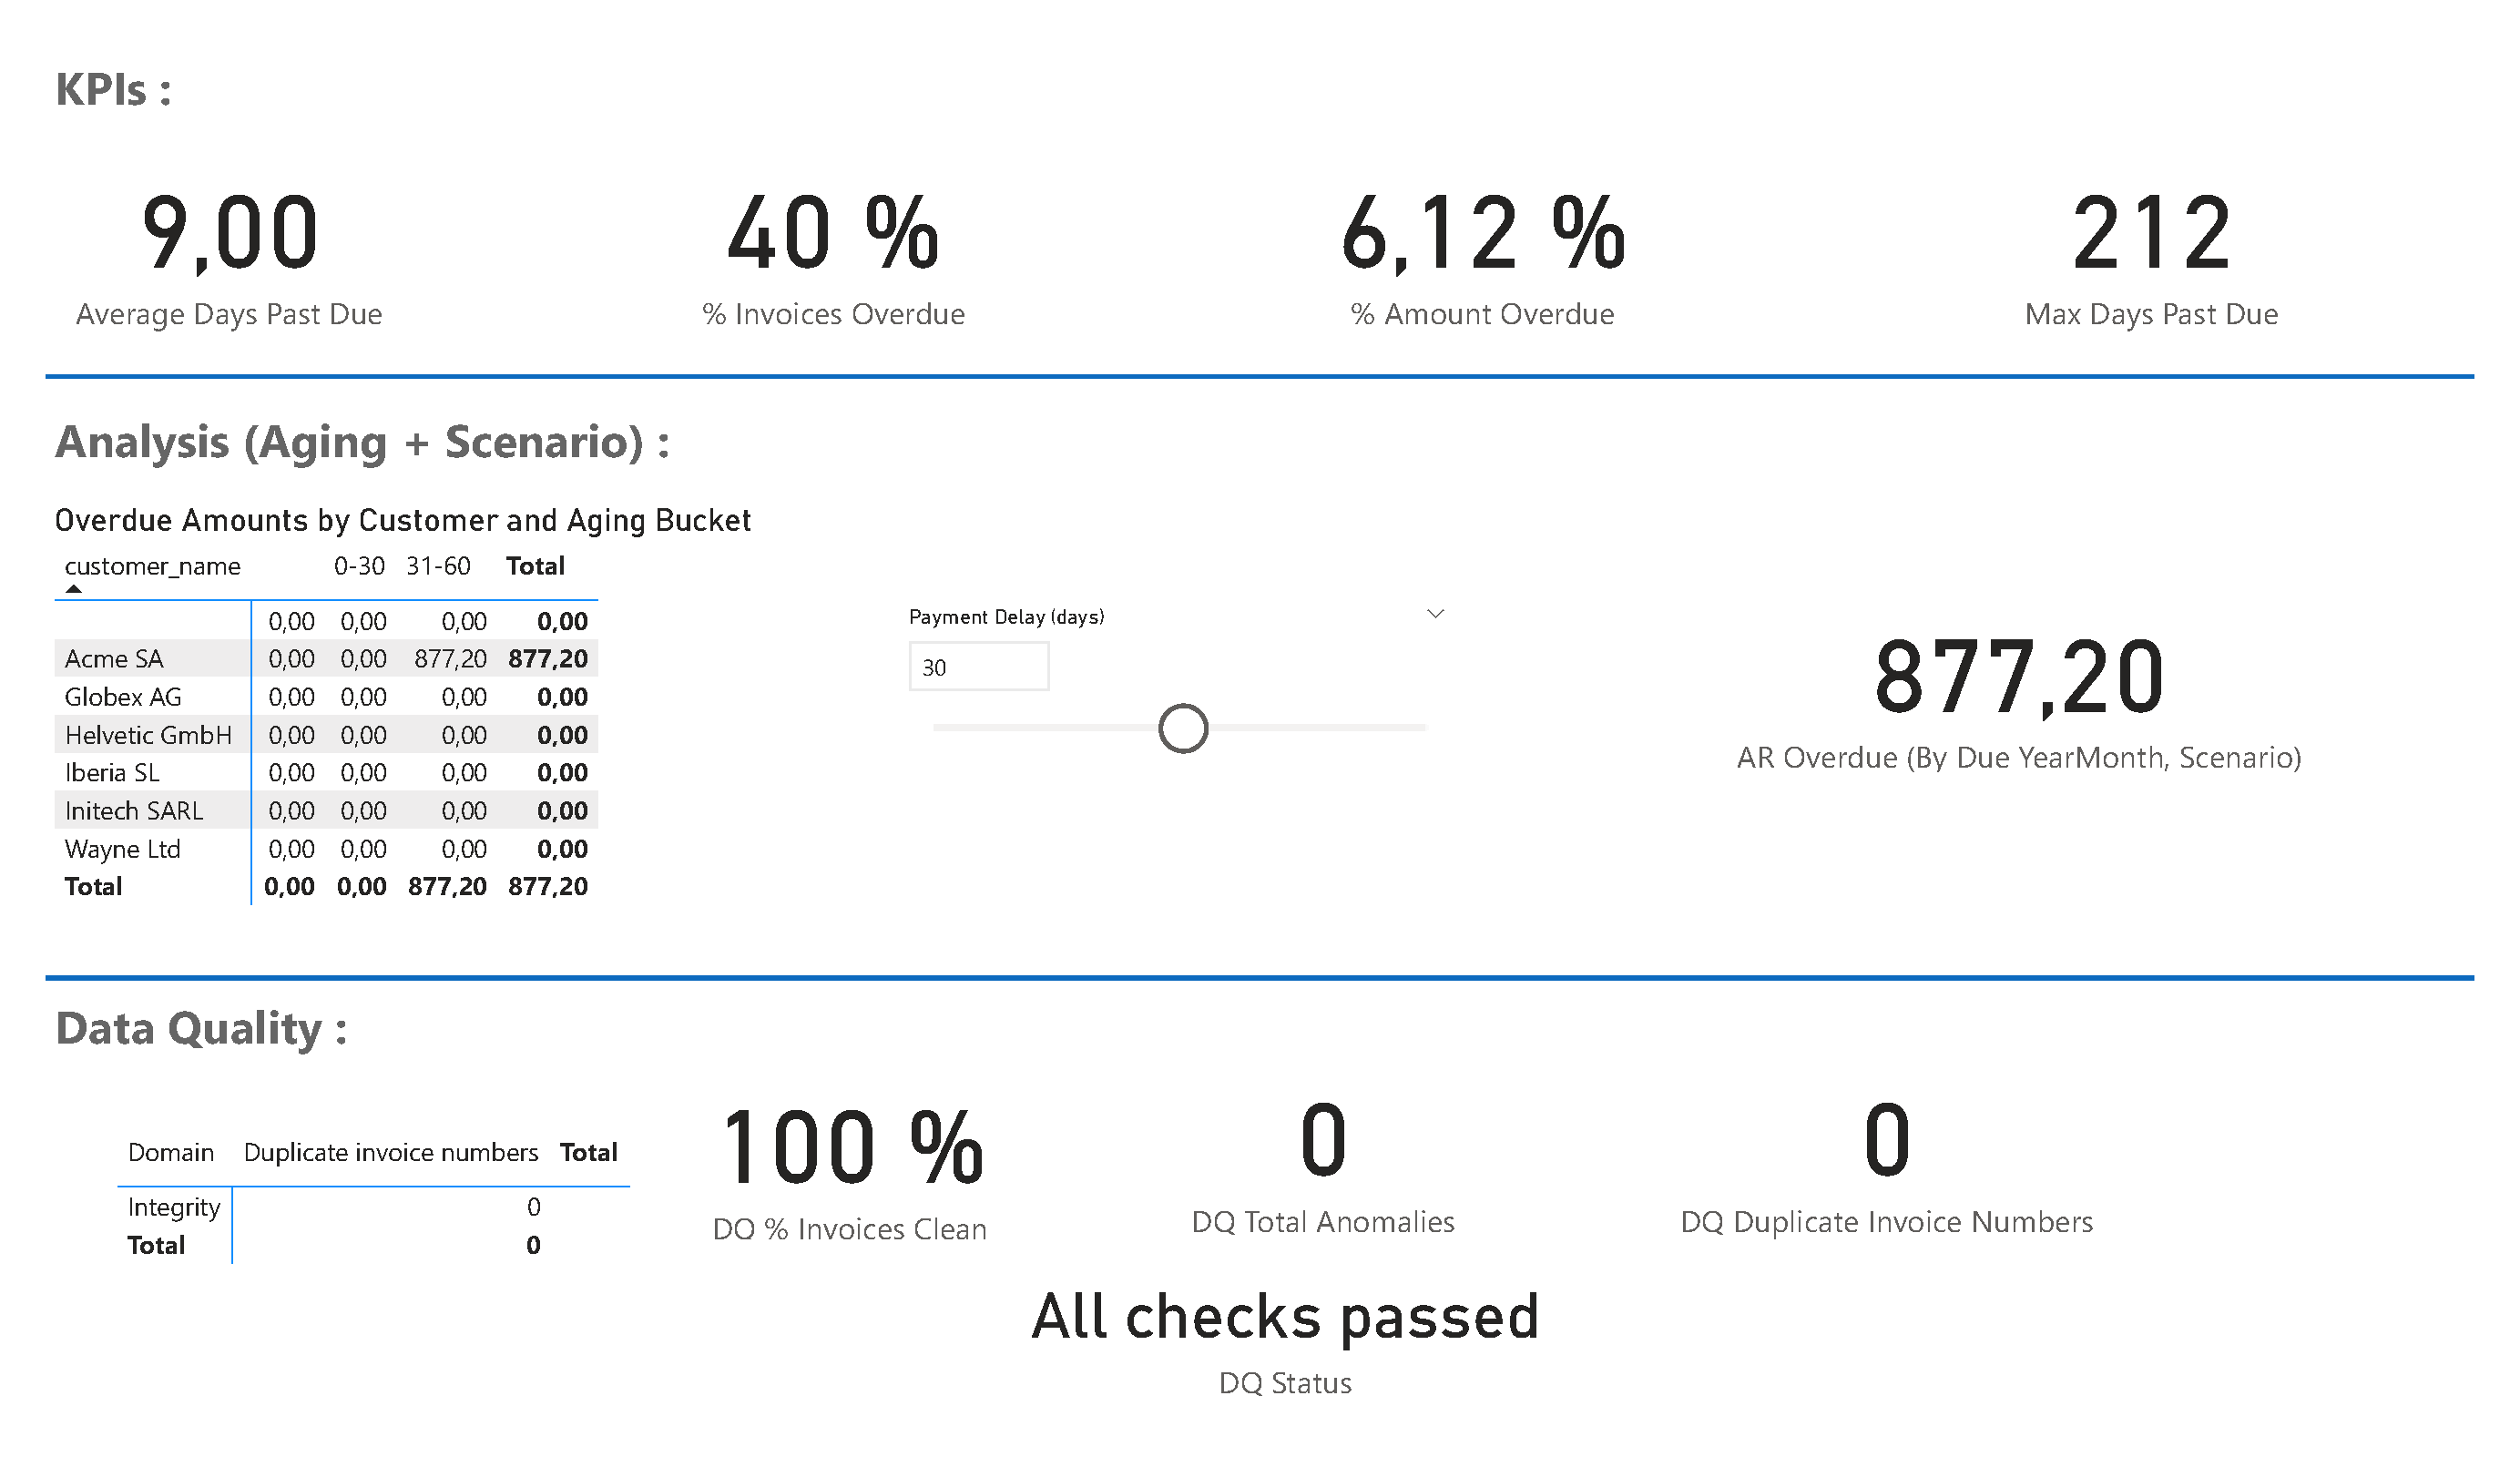

The dashboard page shown, as its layout file describes it:
{"tool":"powerbi","page":{"name":"Risk & Aging + Data Quality","canvas":[1280,720],"ordinal":1},"visuals":[{"type":"pivotTable","title":"Overdue Amounts by Customer and Aging Bucket","fields":{"Rows":["public customers.customer_name"],"Columns":["public v_invoice_open_balance.Aging Bucket"],"Values":["_Measures.AR Overdue"]},"box":[0,240.4,382.1,238.4],"z":0},{"type":"card","fields":{"Values":["_Measures.Average Days Past Due"]},"box":[0,41.9,193.5,119.7],"z":1000},{"type":"card","fields":{"Values":["_Measures.% Invoices Overdue"]},"box":[267.4,41.9,296.3,119.7],"z":2000},{"type":"card","fields":{"Values":["_Measures.% Amount Overdue"]},"box":[609.6,41.9,295.3,119.7],"z":3000},{"type":"card","fields":{"Values":["_Measures.Max Days Past Due"]},"box":[961.7,41.9,296.3,119.7],"z":4000},{"type":"slicer","fields":{"Values":["Payment Delay (days).Payment Delay (days)"]},"box":[442,290.3,308.3,92.8],"z":5000},{"type":"card","fields":{"Values":["_Measures.AR Overdue (By Due YearMonth, Scenario)"]},"box":[845.5,283.8,389.1,103.9],"z":7000},{"type":"textbox","box":[0,494.8,238.4,41.9],"z":8001},{"type":"pivotTable","fields":{"Rows":["DQ Checks.Domain"],"Values":["DQ Checks.DQ Value"],"Columns":["DQ Checks.Check"]},"box":[32.9,567.7,320.2,109.7],"z":8002},{"type":"shape","box":[0,478.9,1280,24.9],"z":8003},{"type":"card","fields":{"Values":["_Measures2.DQ % Invoices Clean"]},"box":[322.2,534.7,203.5,98.8],"z":8004},{"type":"card","fields":{"Values":["_Measures2.DQ Total Anomalies"]},"box":[589.6,526.8,167.6,106.7],"z":8005},{"type":"card","fields":{"Values":["_Measures2.DQ Duplicate Invoice Numbers"]},"box":[811.1,526.8,319.3,106.7],"z":8006},{"type":"card","fields":{"Values":["DQ Checks.DQ Status"]},"box":[416,633.5,474.9,86.8],"z":8007},{"type":"shape","box":[0,162.4,1280,24.9],"z":8008},{"type":"textbox","box":[0,0,238.4,41],"z":8009},{"type":"textbox","box":[0,185.8,381.8,54.1],"z":8010}]}

Visuals, with their boxes on the page's 1280x720 design canvas (x1, y1, x2, y2). These are canvas units, not pixel positions in the 2520x1457 screenshot, which may show the page scaled, cropped or inside an application window:
"Overdue Amounts by Customer and Aging Bucket" pivotTable: (0, 240, 382, 479)
card - _Measures.Average Days Past Due: (0, 42, 194, 162)
card - _Measures.% Invoices Overdue: (267, 42, 564, 162)
card - _Measures.% Amount Overdue: (610, 42, 905, 162)
card - _Measures.Max Days Past Due: (962, 42, 1258, 162)
slicer - Payment Delay (days).Payment Delay (days): (442, 290, 750, 383)
card - _Measures.AR Overdue (By Due YearMonth, Scenario): (846, 284, 1235, 388)
textbox: (0, 495, 238, 537)
pivotTable - DQ Checks.Domain x DQ Checks.DQ Value: (33, 568, 353, 677)
shape: (0, 479, 1280, 504)
card - _Measures2.DQ % Invoices Clean: (322, 535, 526, 634)
card - _Measures2.DQ Total Anomalies: (590, 527, 757, 634)
card - _Measures2.DQ Duplicate Invoice Numbers: (811, 527, 1130, 634)
card - DQ Checks.DQ Status: (416, 634, 891, 720)
shape: (0, 162, 1280, 187)
textbox: (0, 0, 238, 41)
textbox: (0, 186, 382, 240)
